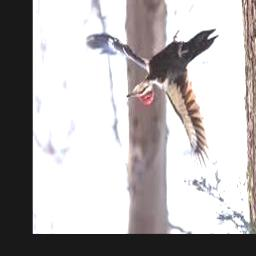Woodpecker: (85, 29, 218, 178)
